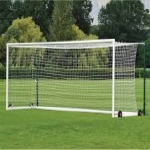goals: (6, 38, 140, 118)
